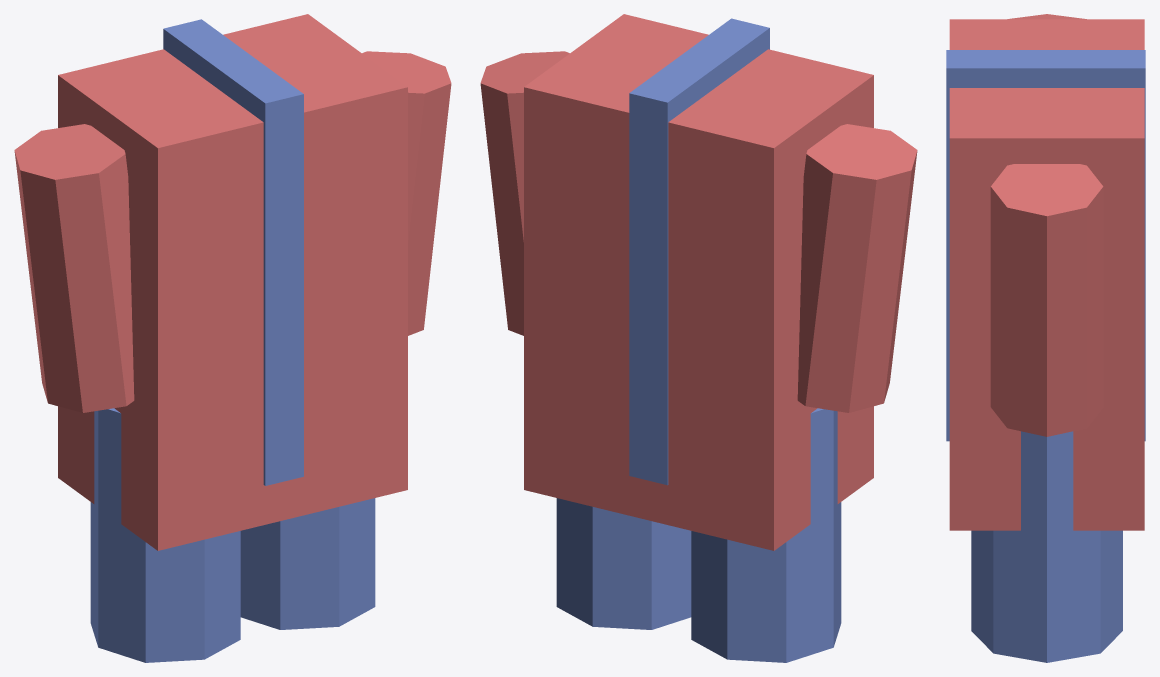
File: vn_traditional.glb
The picture shows the model from 3 angles, left to right: view 1: azimuth 30°, elevation 25°; view 2: azimuth 150°, elevation 25°; view 3: azimuth 270°, elevation 25°; orthographic projection. The views are drawn at different scales.
Parts seen in each view (by area): view 1: top, sleeve, trim, pant, pant.001, sleeve.001; view 2: top, sleeve, pant, trim, pant.001, sleeve.001; view 3: top, sleeve.001, pant.001, trim.
Boxes of the visible parts, x1=… form: top: x1=58, y1=14, x2=407, y2=550; sleeve: x1=14, y1=124, x2=134, y2=412; trim: x1=163, y1=19, x2=303, y2=485; pant: x1=90, y1=408, x2=240, y2=662; pant.001: x1=240, y1=498, x2=375, y2=629; sleeve.001: x1=362, y1=51, x2=451, y2=335; top: x1=524, y1=14, x2=873, y2=550; sleeve: x1=797, y1=124, x2=917, y2=412; pant: x1=691, y1=408, x2=841, y2=662; trim: x1=629, y1=18, x2=769, y2=485; pant.001: x1=556, y1=498, x2=691, y2=629; sleeve.001: x1=480, y1=51, x2=569, y2=335; top: x1=949, y1=19, x2=1144, y2=530; sleeve.001: x1=990, y1=164, x2=1103, y2=436; pant.001: x1=971, y1=431, x2=1122, y2=662; trim: x1=946, y1=50, x2=1145, y2=441.
Size of the model in its own units: 0.442 by 0.55 by 0.184.
